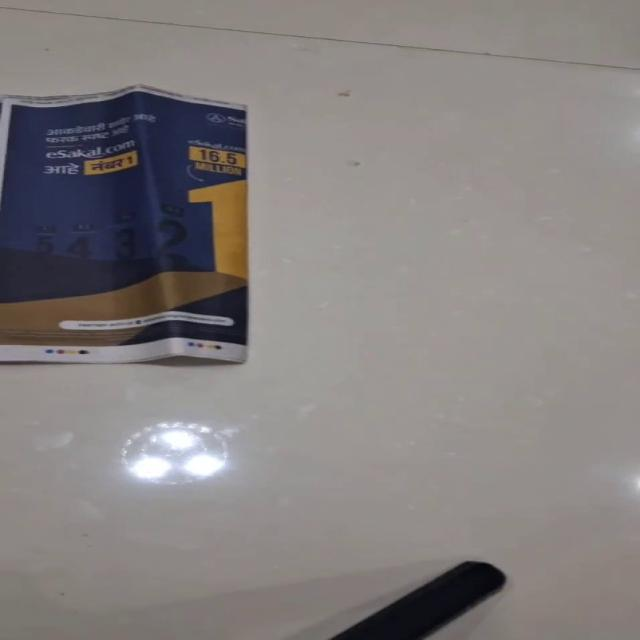paper: (0, 83, 249, 364)
